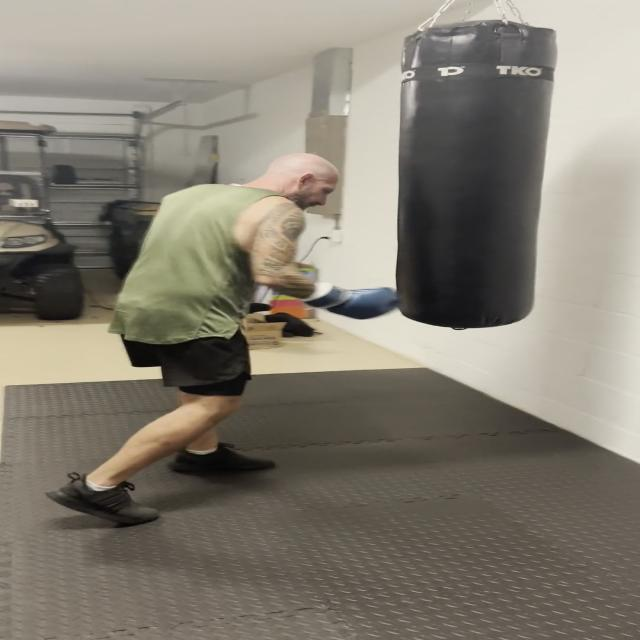punch: (133, 152, 407, 324)
